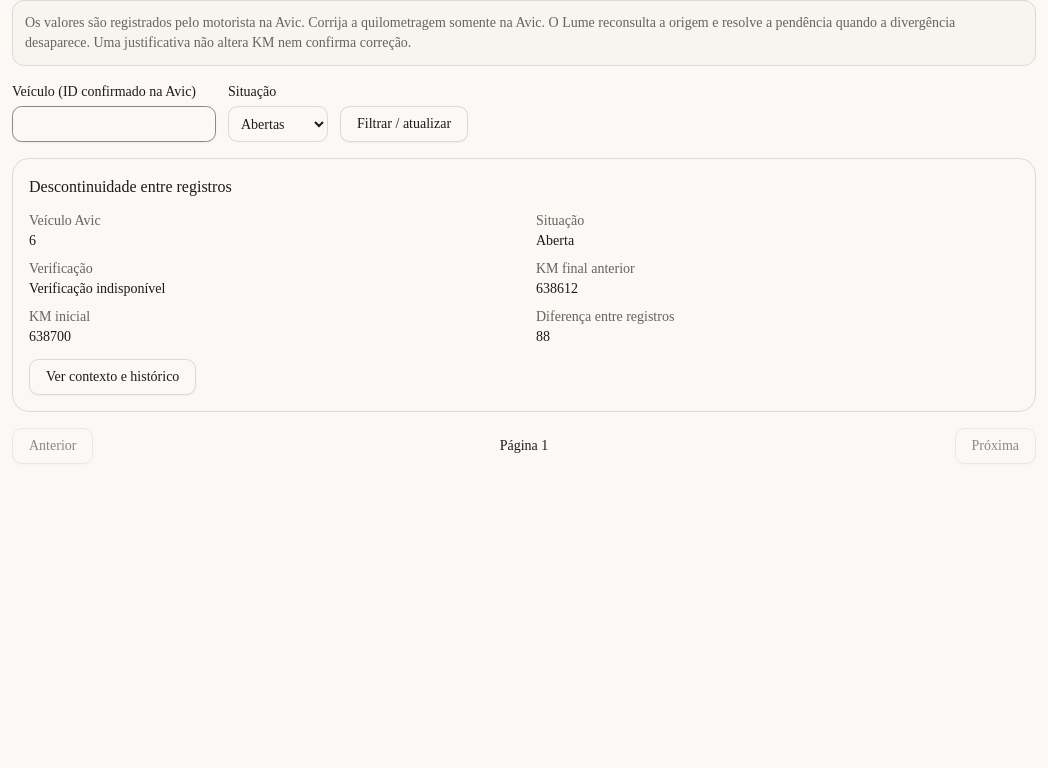
Scenario: reuses commandId after uncertain failure and preserves the users justification
This screenshot has width=1048, height=768.
Click the button "Ver contexto e histórico": (113, 377) [29,359,196,395]
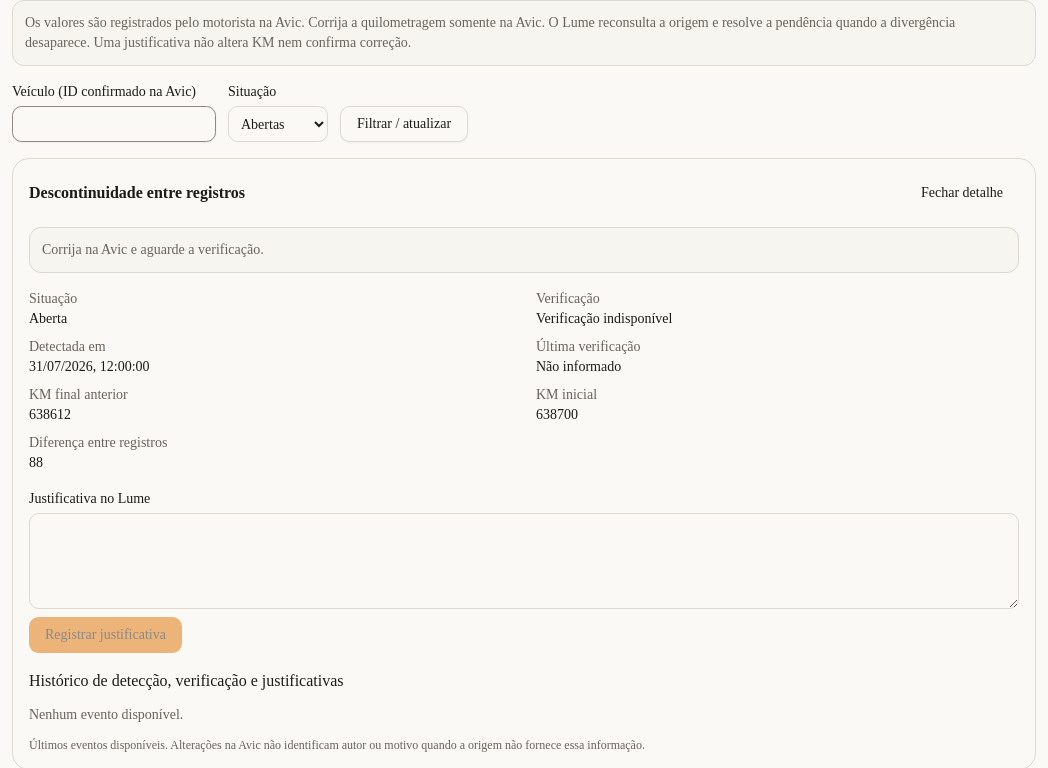
In the text box labelled "Justificativa no Lume": (524, 561) [29,513,1019,609], type "Conferência solicitada na origem."
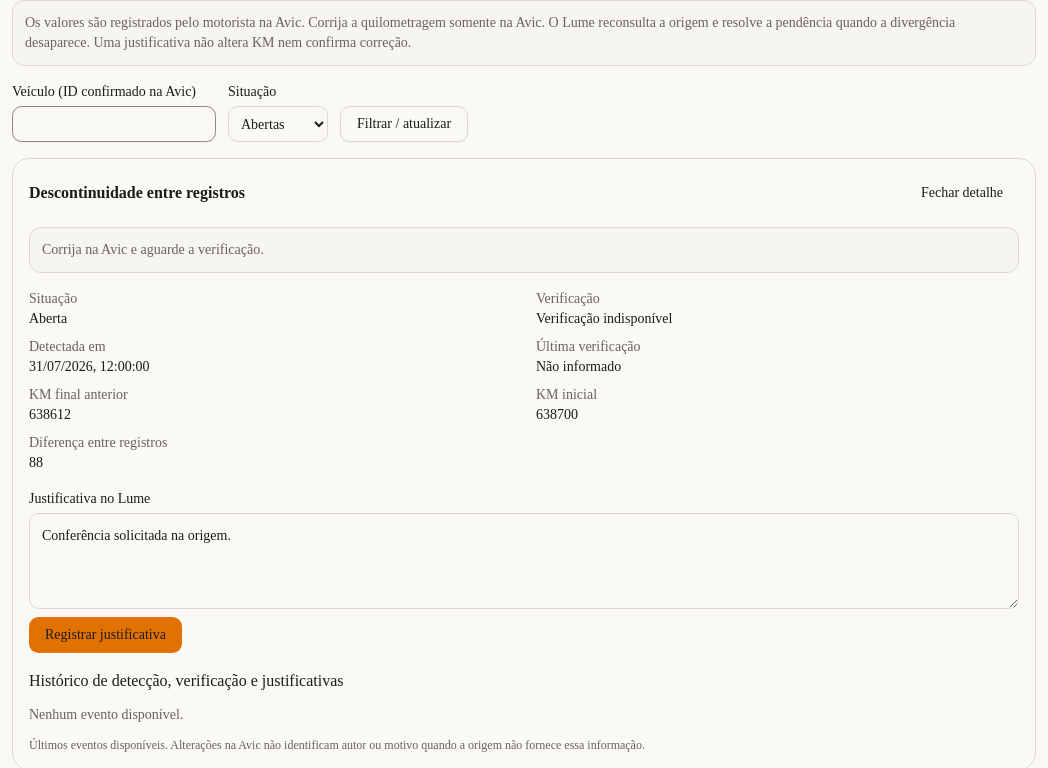
Click the button "Registrar justificativa": (105, 635) [29,617,182,653]
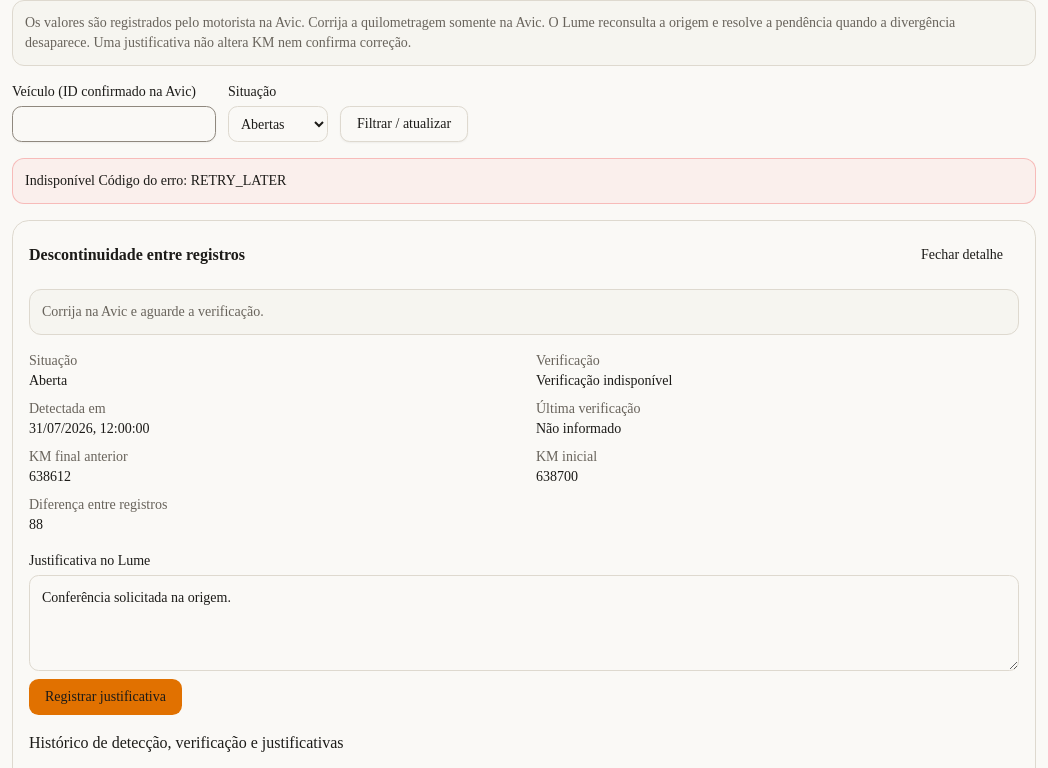
Expected: the message shows "RETRY_LATER", [25,173,286,188]
Click the button "Registrar justificativa": (105, 697) [29,679,182,715]
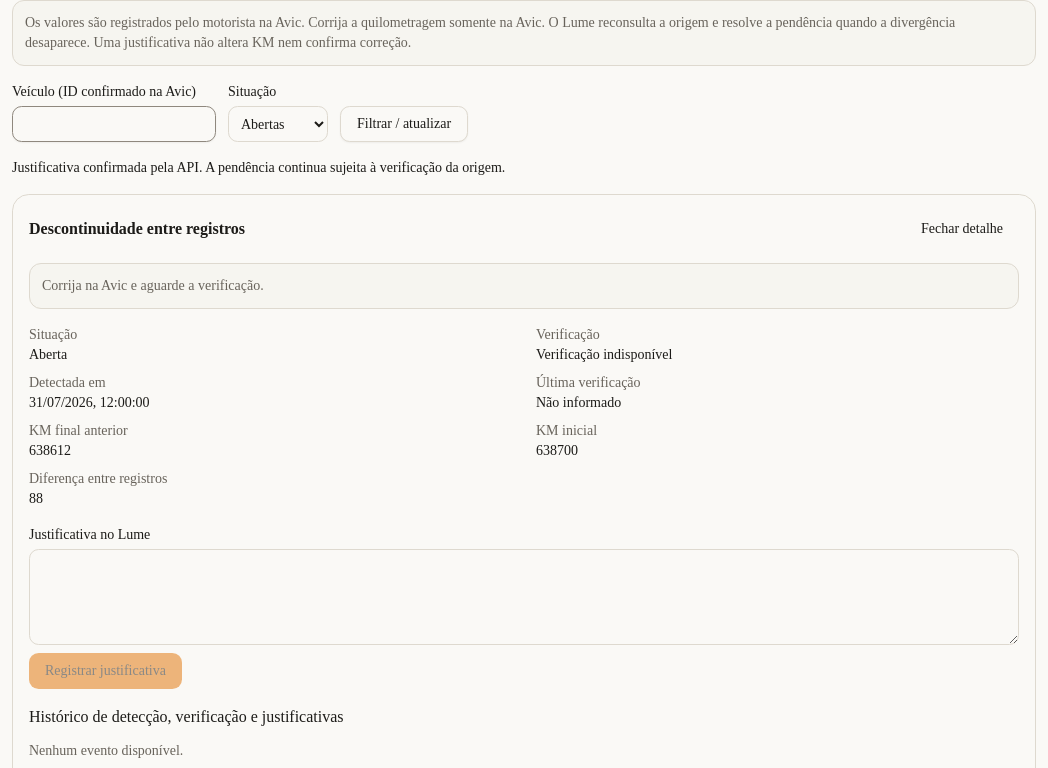
Expected: the message shows "Justificativa confirmada", [12,160,505,175]
